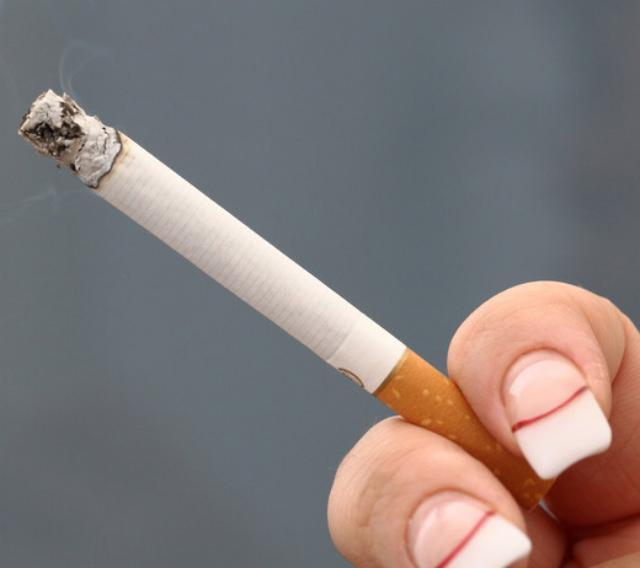Smoking: (15, 88, 558, 520)
